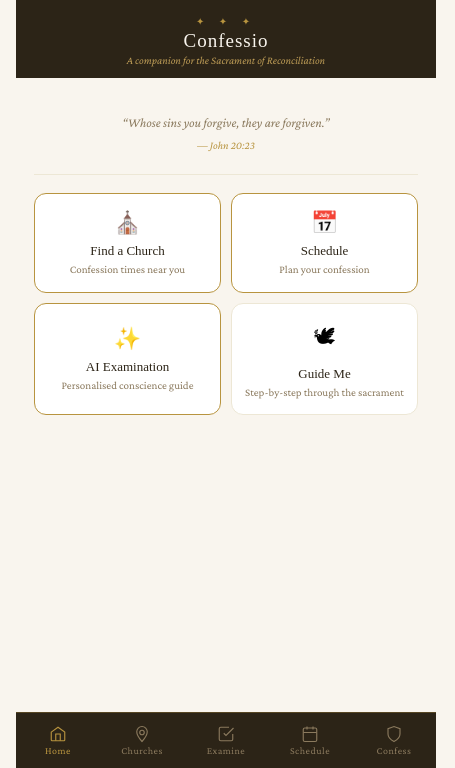
Test case: App › navigates to ConfessionScreen via BottomNav
The width and height of the screenshot is (455, 768).
What coordinates should you click on to do the following:
click the button "Confess"
I would click on:
 (394, 740)
Its box is [352,713,436,767].
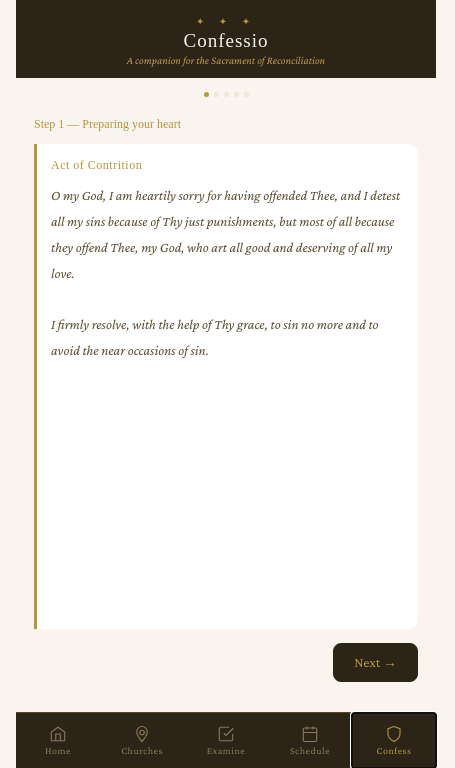
expect the text "Step 1 — Preparing your heart" is shown: met, box [34,117,181,131]
